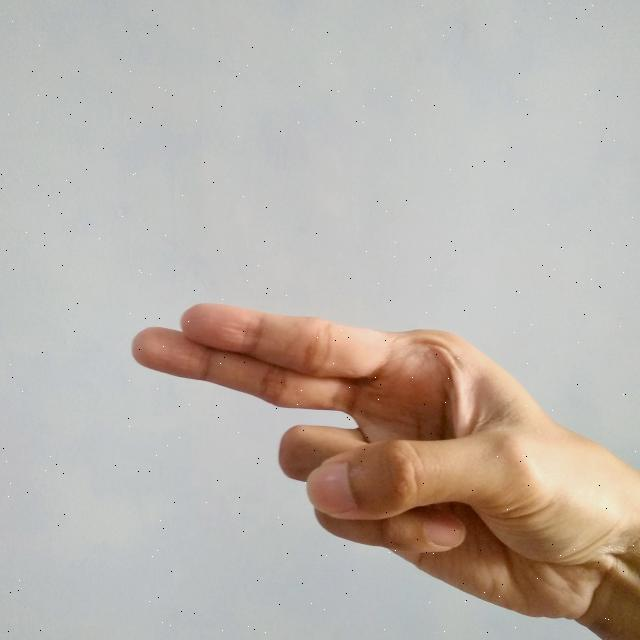H: (123, 293, 640, 639)
